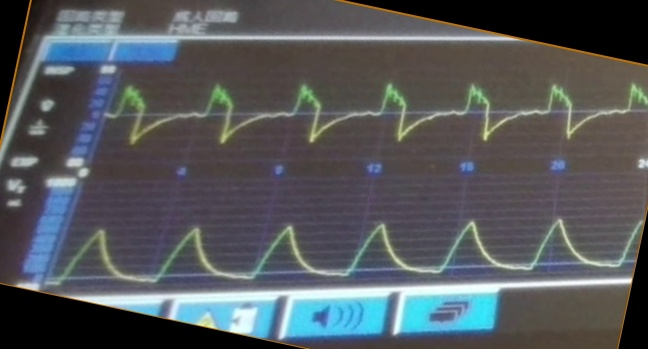Accumulation Flow: (120, 69, 645, 152)
Volume: (81, 189, 629, 283)
